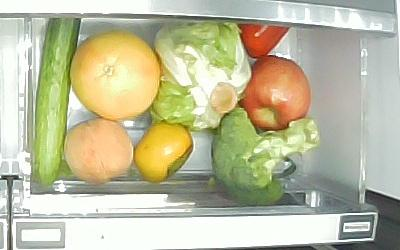apple: (240, 56, 313, 131)
broccoli: (213, 108, 321, 206)
cucumber: (31, 17, 80, 189)
grapefruit: (71, 29, 159, 121)
lettuce: (150, 21, 252, 130)
paprika: (238, 24, 296, 60)
peach: (63, 116, 134, 184)
persimmon: (136, 122, 194, 184)
